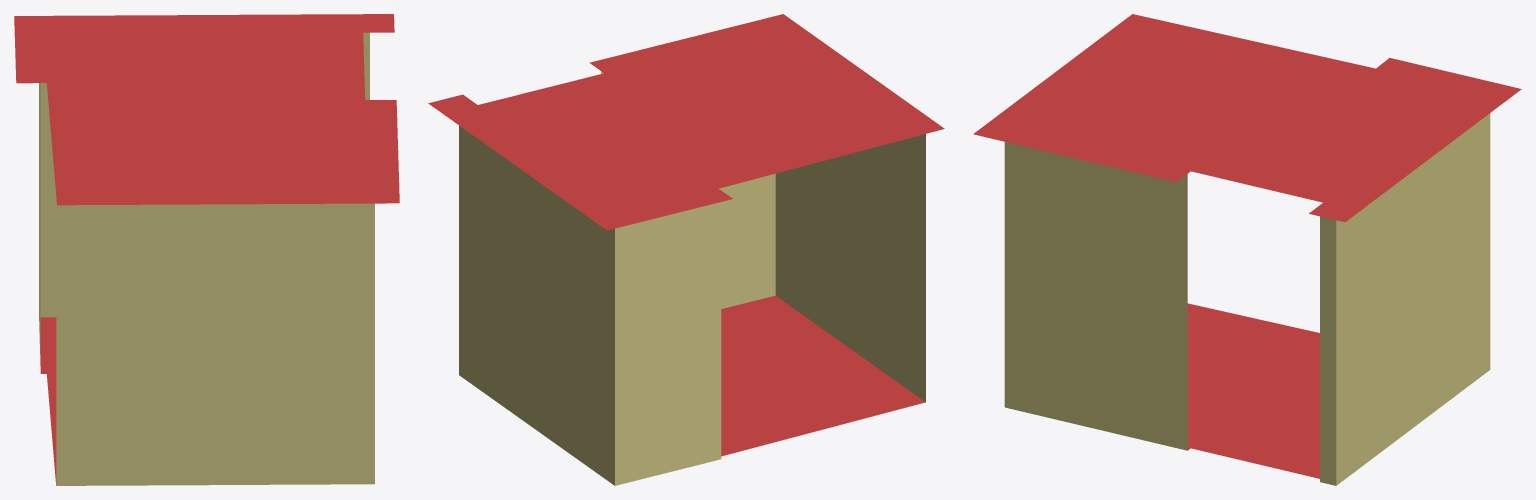
The picture shows the model from 3 angles, left to right: view 1: azimuth 30°, elevation 25°; view 2: azimuth 150°, elevation 25°; view 3: azimuth 270°, elevation 25°; orthographic projection. The views are drawn at different scales.
Bounding box in the file's own units: 10.57 × 11.77 × 6.55.
